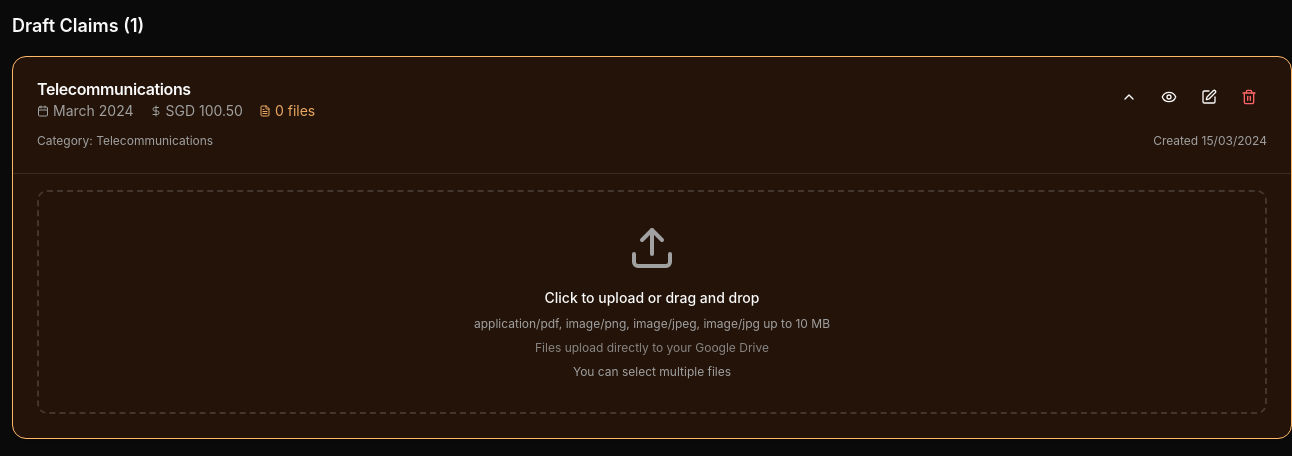
Test case: DraftClaimsList › Delete Functionality › should show deleting state while delete is in progress
Expected: the heading "Draft Claims (1)" is shown, left=12, top=12, right=144, bottom=40
Click the 2nd button named "delete".
click(1249, 97)  # box left=1231, top=81, right=1267, bottom=113
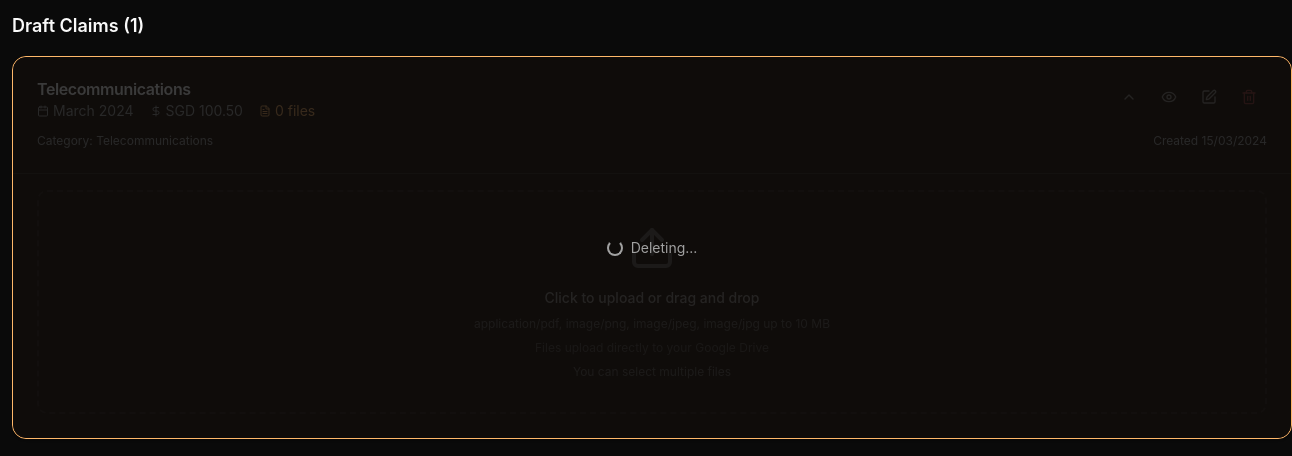
Expected: the text "Deleting..." is shown, left=607, top=238, right=697, bottom=258
